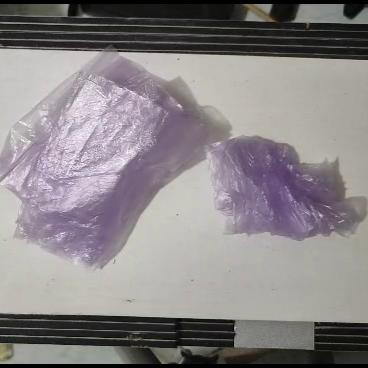Plastik: (0, 43, 206, 271), (205, 134, 356, 242)
